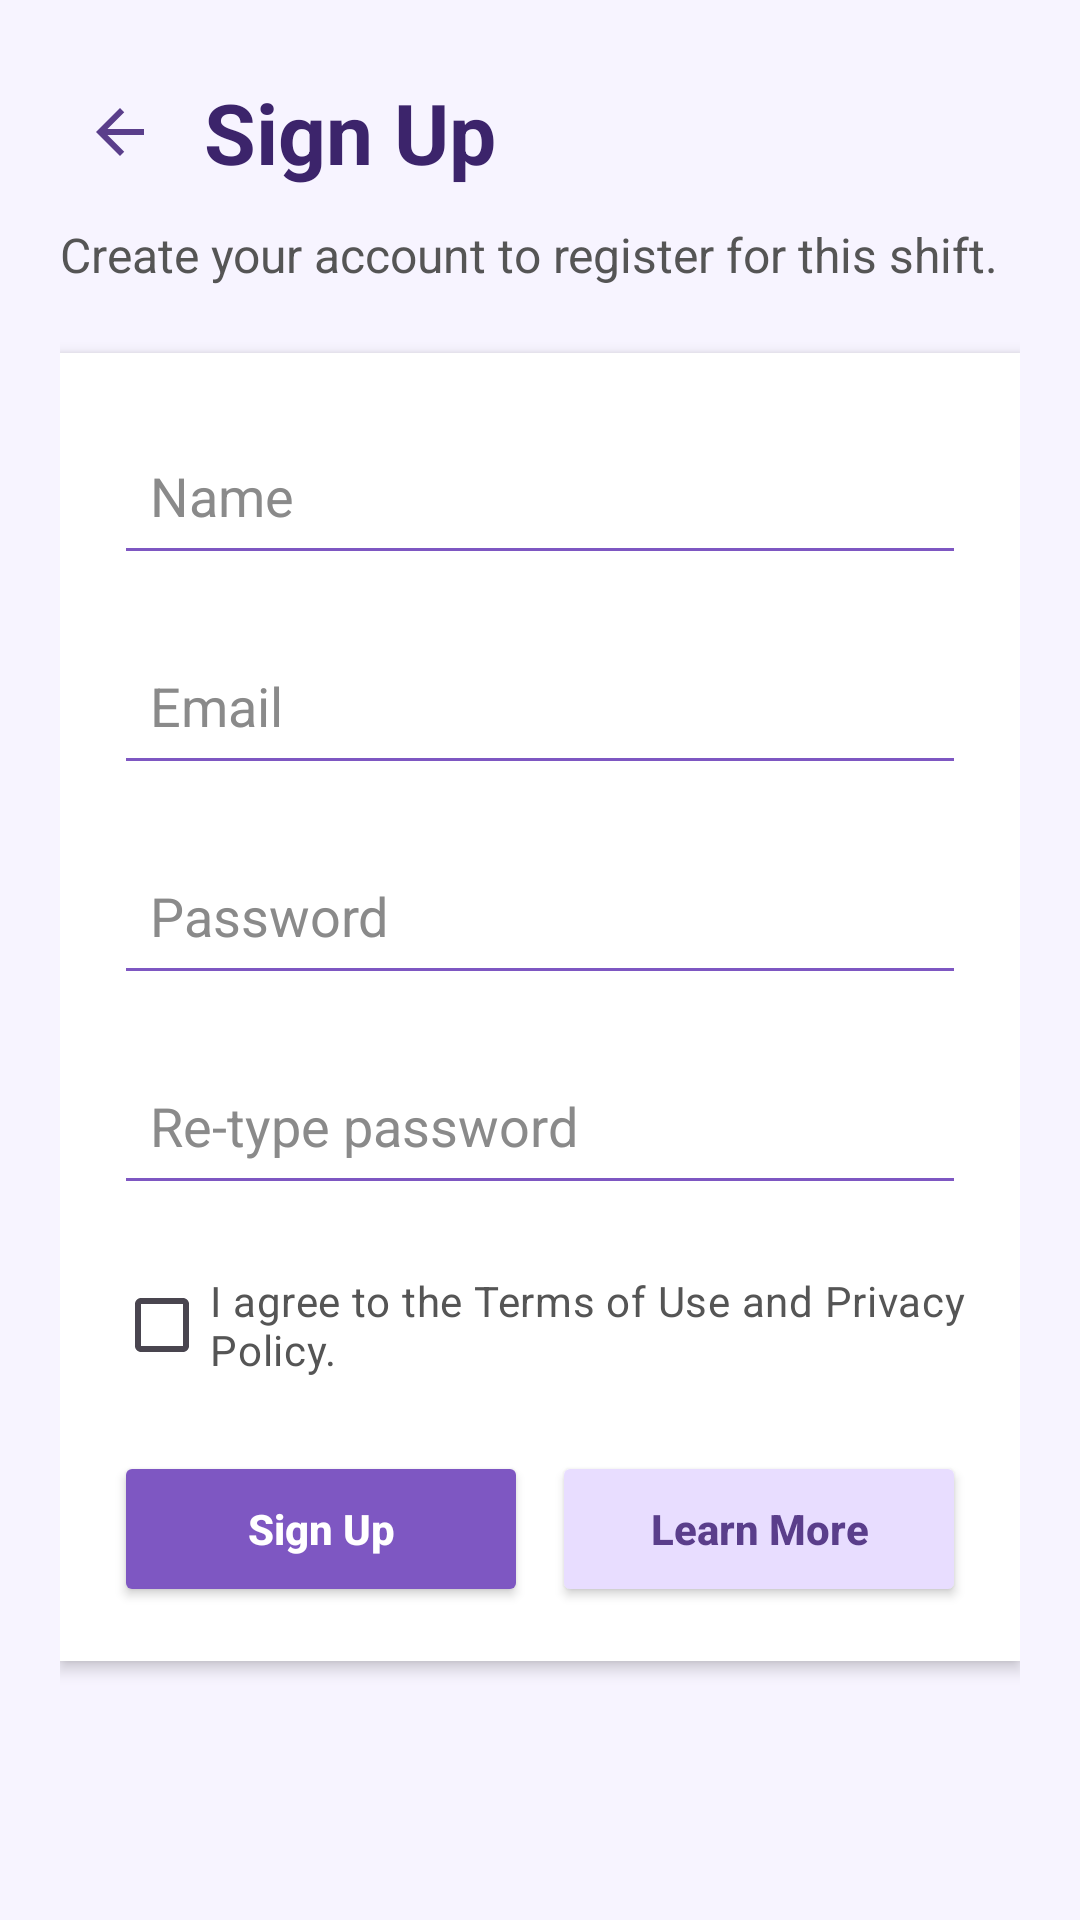

Named icons in this screenshot (1080w x 1920h) and their centers, (x,y):
Back: (120,132)
